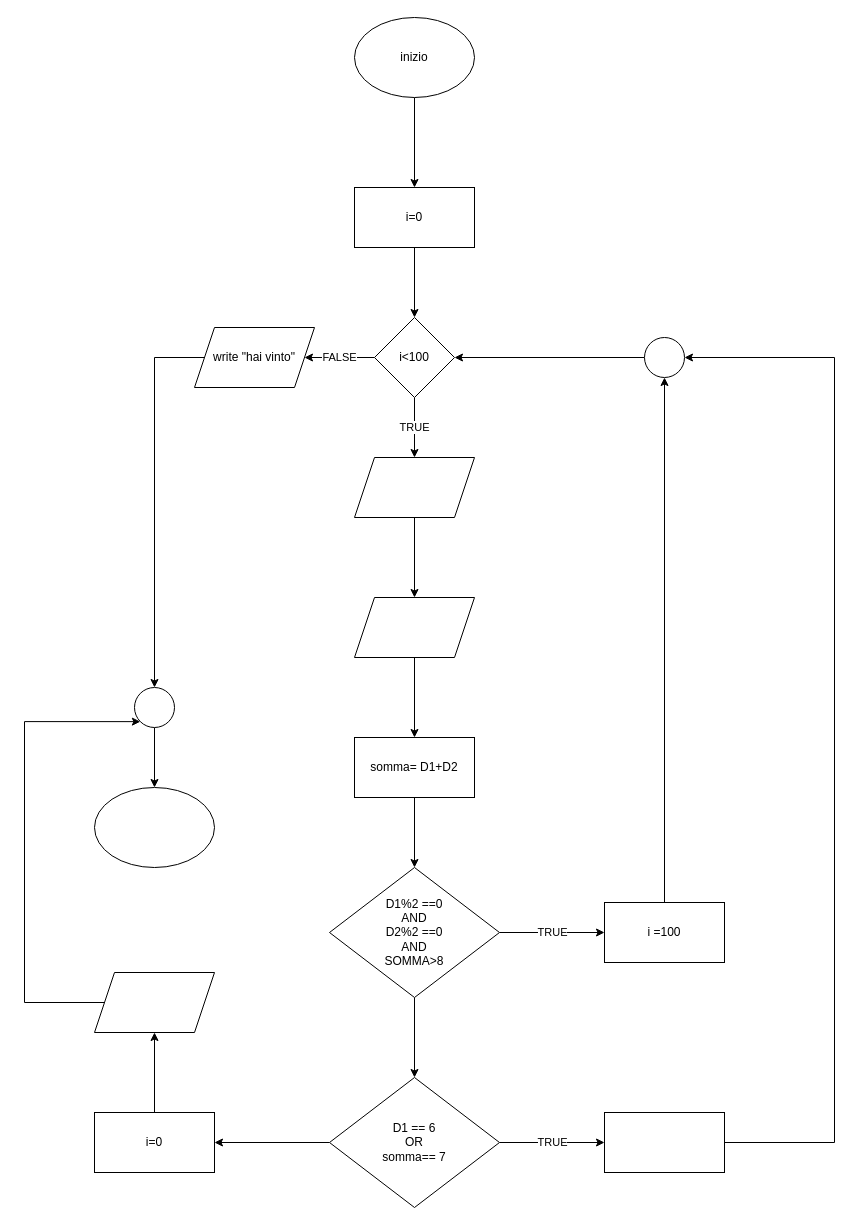
This 860x1225 diagram has some shape labels left out. Here are the shapes that lost their labels. From the top down, the box of each, then its label:
(354, 456, 474, 518): read D1,D2
(354, 596, 474, 658): write "lancio dadi"
(94, 786, 214, 868): fine
(94, 972, 214, 1032): write "hai perso"
(604, 1112, 724, 1172): i+=10
